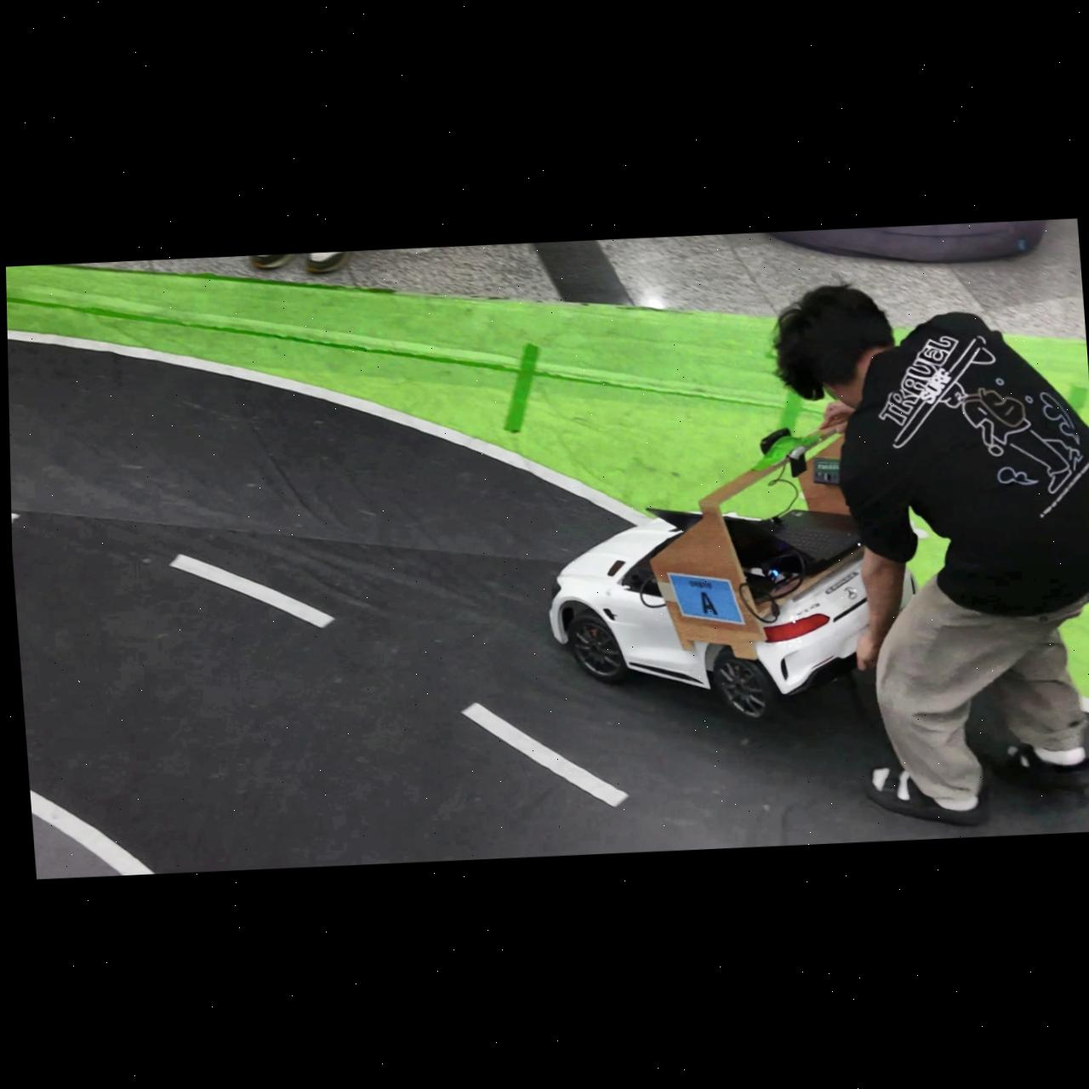broken_line: (460, 702, 629, 808), (169, 553, 335, 628), (11, 513, 21, 523)
